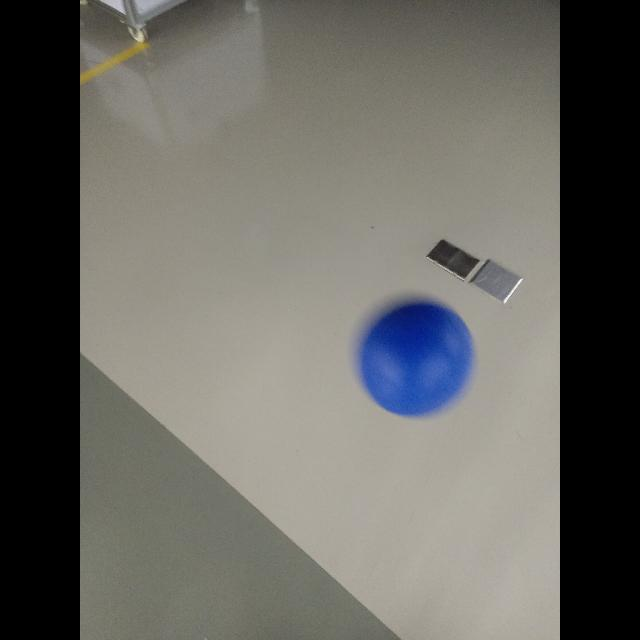B: (365, 298, 475, 409)
